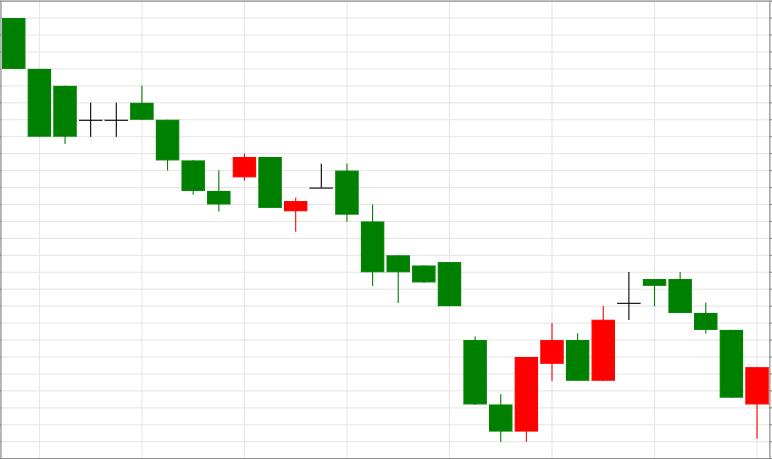bullish_engulfing_rise: (335, 163, 538, 442)
